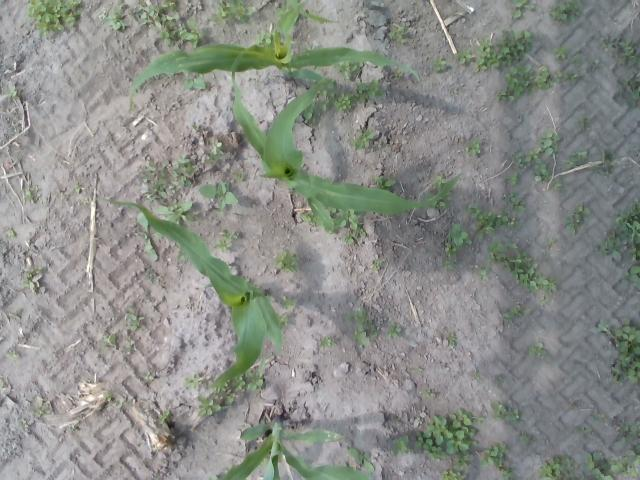Maize: (228, 46, 462, 232), (95, 196, 284, 390), (126, 0, 420, 116), (215, 415, 372, 480), (283, 0, 336, 25)
Weeds: (132, 0, 205, 48), (413, 409, 478, 459), (472, 28, 534, 71), (504, 250, 560, 294), (581, 444, 640, 480), (26, 0, 82, 37), (610, 316, 640, 384), (464, 204, 520, 238), (615, 198, 640, 262), (134, 211, 164, 262), (138, 159, 170, 202), (599, 34, 640, 67), (232, 356, 266, 392), (344, 308, 378, 344), (210, 0, 256, 26), (322, 202, 364, 230), (199, 181, 239, 210), (536, 453, 578, 480), (152, 199, 194, 226), (506, 66, 536, 102), (596, 230, 624, 262), (566, 204, 592, 236), (445, 223, 469, 257), (480, 442, 508, 471), (100, 2, 128, 31), (617, 73, 640, 108), (315, 76, 337, 112), (252, 22, 284, 46), (548, 0, 580, 23), (172, 156, 196, 186), (491, 401, 522, 424), (348, 446, 375, 472), (537, 129, 562, 156), (354, 78, 384, 100), (200, 138, 225, 164), (332, 60, 363, 80), (274, 248, 298, 273), (536, 66, 561, 90), (197, 394, 222, 417), (215, 378, 235, 406), (348, 128, 374, 149), (298, 99, 320, 123), (617, 421, 640, 443), (504, 189, 526, 212), (425, 192, 452, 210), (214, 231, 236, 253), (486, 240, 506, 264), (599, 148, 615, 178), (511, 0, 534, 20), (334, 92, 356, 112), (392, 434, 412, 456), (28, 400, 52, 418), (622, 264, 640, 288), (502, 304, 523, 324), (534, 162, 554, 182), (344, 227, 367, 244), (124, 307, 140, 331), (388, 25, 408, 44), (373, 176, 398, 191), (453, 450, 471, 470), (566, 150, 586, 168), (453, 48, 472, 65), (20, 270, 36, 290), (300, 210, 318, 227), (104, 392, 123, 408), (430, 56, 447, 73), (466, 138, 482, 156), (432, 172, 448, 190), (524, 148, 542, 164), (184, 77, 206, 90), (438, 470, 466, 480), (386, 322, 402, 339), (527, 343, 547, 356), (184, 374, 200, 390), (562, 70, 578, 86), (511, 150, 524, 169), (101, 333, 117, 348), (552, 44, 567, 60), (576, 115, 590, 132), (592, 317, 608, 331), (504, 172, 520, 186), (280, 296, 298, 308), (2, 85, 18, 98), (176, 243, 188, 260), (158, 410, 172, 424), (276, 313, 288, 327), (519, 434, 534, 445), (319, 336, 334, 347), (478, 264, 488, 280), (22, 187, 34, 200), (494, 89, 507, 101), (580, 425, 594, 436), (570, 54, 584, 65), (232, 170, 244, 182), (421, 388, 435, 398), (472, 416, 486, 425), (310, 63, 321, 74), (372, 259, 383, 270), (503, 469, 514, 480), (442, 260, 454, 270), (552, 178, 562, 190), (448, 332, 456, 346), (18, 417, 28, 428), (594, 412, 607, 420), (5, 352, 18, 360), (590, 58, 600, 68), (540, 295, 549, 306), (506, 242, 518, 250), (546, 236, 558, 244), (303, 43, 316, 50), (6, 228, 16, 237), (190, 122, 200, 131), (392, 69, 403, 77), (452, 86, 460, 96), (524, 308, 534, 316), (143, 374, 154, 381), (74, 184, 81, 194), (496, 375, 504, 382), (413, 366, 422, 372), (125, 346, 133, 352), (342, 462, 348, 468), (474, 373, 480, 379), (0, 380, 3, 388)
